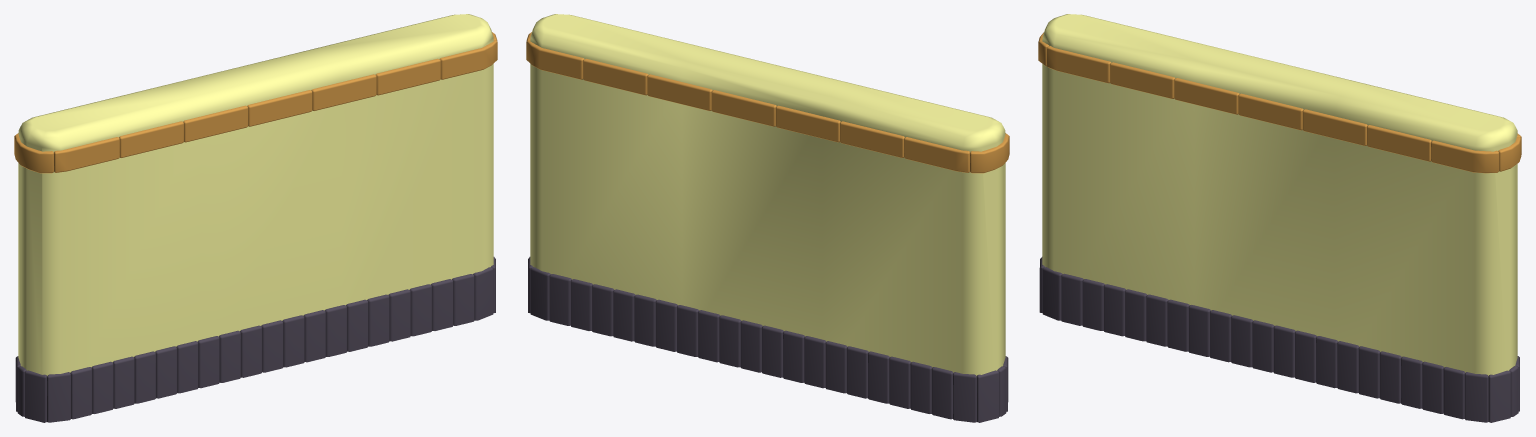
File: Env2_Wall.fbx
3 views of the same model, side by side, from view 1: azimuth 30°, elevation 25°; view 2: azimuth 150°, elevation 25°; view 3: azimuth 330°, elevation 25° (orthographic).
Visible parts, largest first — view 1: Env2_Wall; view 2: Env2_Wall; view 3: Env2_Wall.
Part boxes in pixels (bbox=[...]): Env2_Wall: bbox=[14, 14, 497, 422]; Env2_Wall: bbox=[526, 14, 1009, 422]; Env2_Wall: bbox=[1038, 14, 1521, 422].
Size of the model in its own units: 3.38 by 0.4449 by 1.95.
